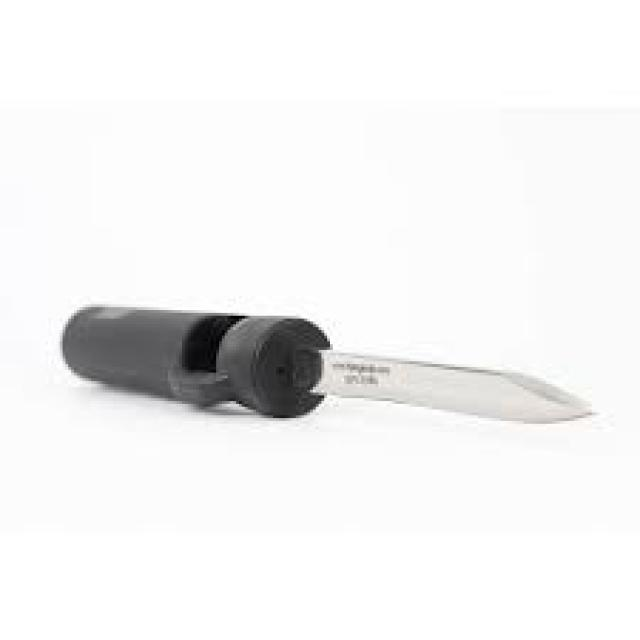knives: (54, 296, 600, 435)
